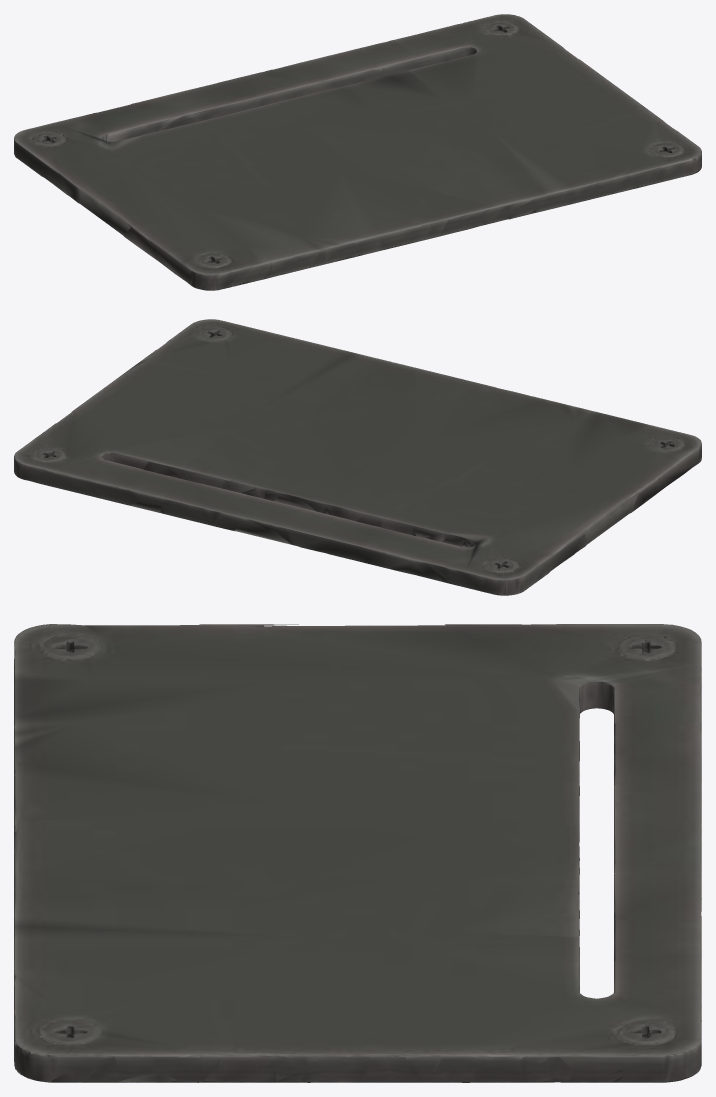
File: piece_panel_reinforced.glb
3 views of the same model, one above another, from view 1: azimuth 30°, elevation 25°; view 2: azimuth 150°, elevation 25°; view 3: azimuth 270°, elevation 25° (orthographic). The views are drawn at different scales.
Visible parts, largest first — view 1: trait_panel_reinforced; view 2: trait_panel_reinforced; view 3: trait_panel_reinforced.
Boxes of the visible parts, left/top/right/bottom form: trait_panel_reinforced: left=14, top=14, right=701, bottom=290; trait_panel_reinforced: left=14, top=319, right=701, bottom=595; trait_panel_reinforced: left=14, top=624, right=701, bottom=1082.
Size of the model in its own units: 0.2869 by 0.00901 by 0.1931.
1 material, 1 textured.
